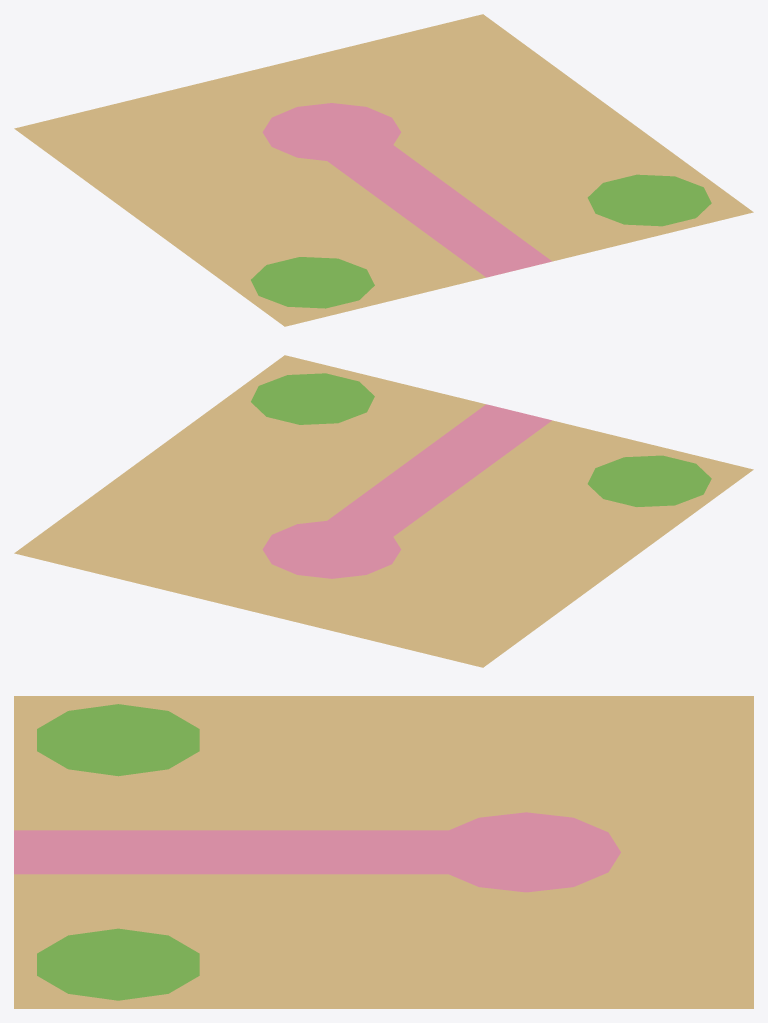
The model's file is L_Luna.fbx.
The picture shows the model from 3 angles, top to bottom: view 1: azimuth 30°, elevation 25°; view 2: azimuth 150°, elevation 25°; view 3: azimuth 270°, elevation 25°; orthographic projection. The views are drawn at different scales.
Visible parts, largest first — view 1: L_Luna; view 2: L_Luna; view 3: L_Luna.
Boxes of the visible parts, <box> form: L_Luna: <box>14,14,753,326</box>; L_Luna: <box>14,355,753,667</box>; L_Luna: <box>14,696,753,1008</box>.
Bounding box in the file's own units: 7.8 × 0.001 × 7.8.
